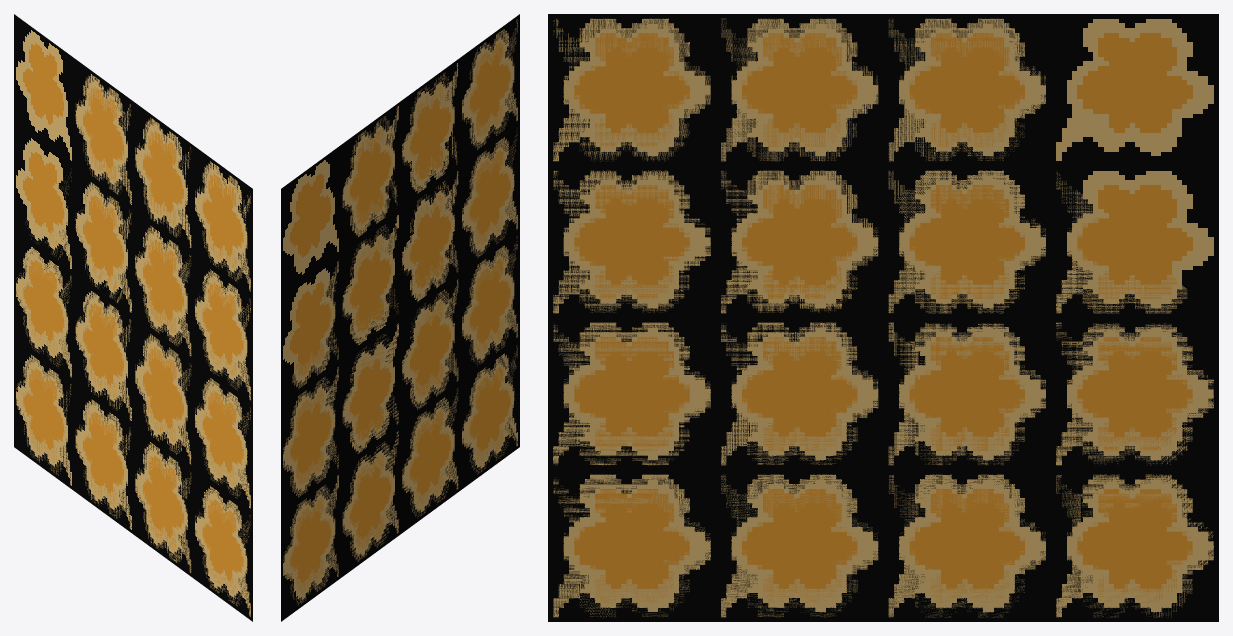
3 renders of one model, left to right at view 1: azimuth 30°, elevation 25°; view 2: azimuth 150°, elevation 25°; view 3: azimuth 270°, elevation 25°, orthographic. The views are drawn at different scales.
Visible parts, largest first — view 1: ef_020; view 2: ef_020; view 3: ef_020.
Part boxes in pixels (x1,y1,x2,y2): ef_020: (14, 14, 252, 621); ef_020: (281, 14, 519, 621); ef_020: (548, 14, 1218, 621).
Size of the model in its own units: 0 by 0.8315 by 0.8315.
Materials: 1 (1 with a texture image).
